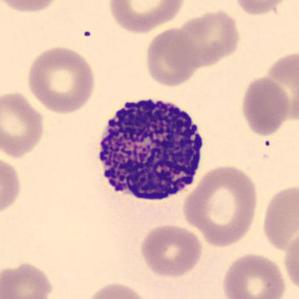Basophil: (88, 89, 212, 208)
RBC: (180, 162, 261, 249), (24, 43, 98, 114), (169, 6, 243, 68), (138, 223, 204, 278), (143, 26, 198, 88), (239, 74, 293, 137), (0, 89, 47, 160), (219, 251, 288, 299), (105, 0, 187, 35), (262, 47, 299, 123), (260, 181, 298, 254), (0, 259, 56, 299), (0, 152, 23, 219), (84, 280, 152, 299), (281, 227, 299, 293), (231, 0, 295, 16), (0, 0, 63, 15)
